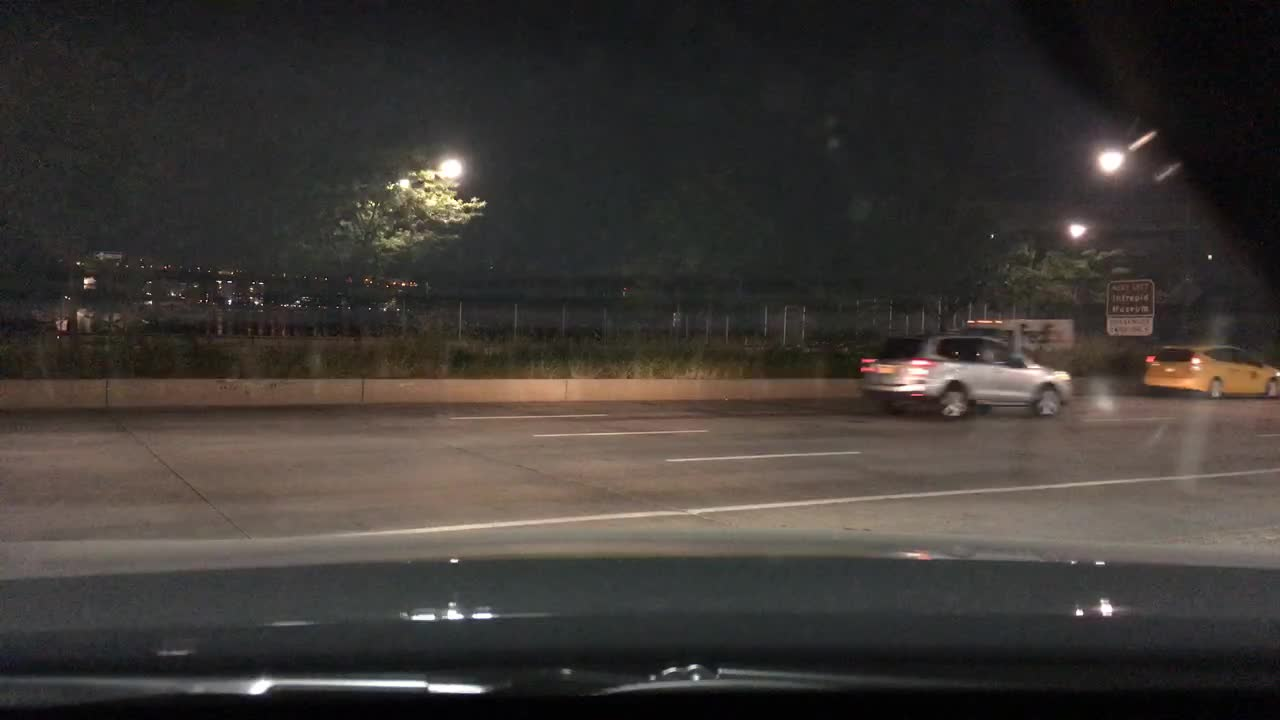car: (858, 330, 1074, 422), (1139, 341, 1279, 400)
traffic sign: (1103, 279, 1154, 338), (92, 249, 123, 263)
truck: (965, 316, 1074, 351)
